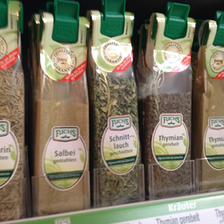spices: (32, 9, 91, 217), (89, 9, 145, 206), (145, 12, 195, 195)
